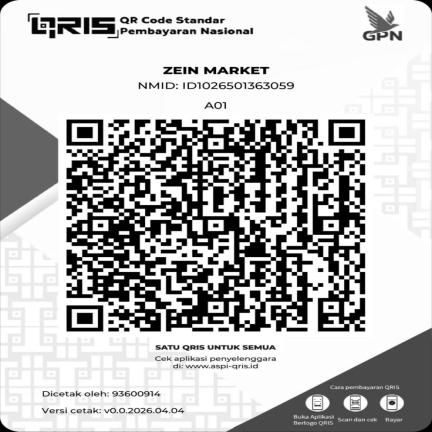Cara Pakai QRIS: (281, 383, 411, 428)
Cek Aplikasi Penyelenggara: (145, 355, 286, 372)
Dicetak Oleh: (38, 386, 167, 400)
Logo GPN: (355, 3, 412, 45)
Logo dan deskripsi QRIS: (19, 10, 268, 42)
Nama Merchant: (155, 63, 276, 77)
National Merchant ID: (132, 81, 301, 91)
QR Code: (58, 115, 373, 335)
Slogan: (146, 341, 286, 354)
Terminal ID: (199, 99, 234, 111)
Versi Cetak: (40, 405, 190, 417)
